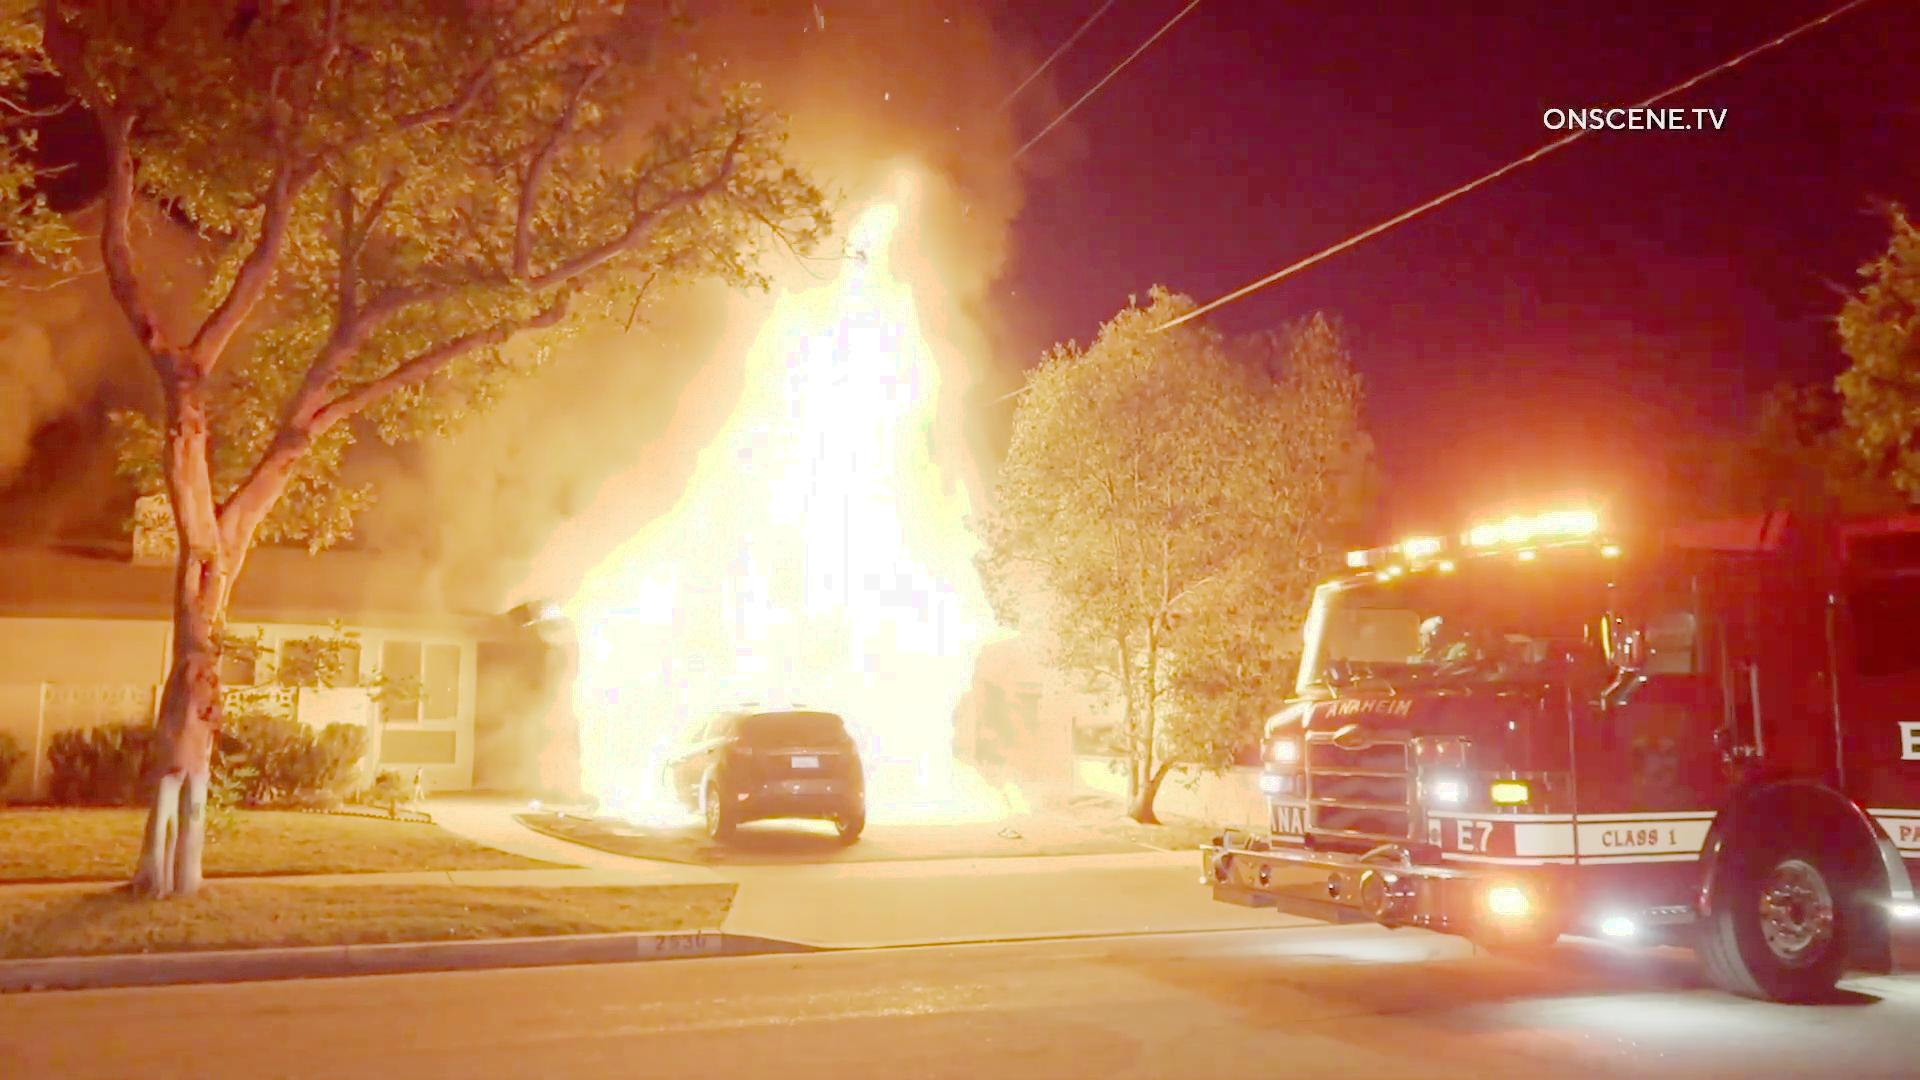fire: (667, 193, 945, 696), (578, 510, 691, 786)
smoke: (617, 0, 943, 133), (407, 338, 638, 513)
